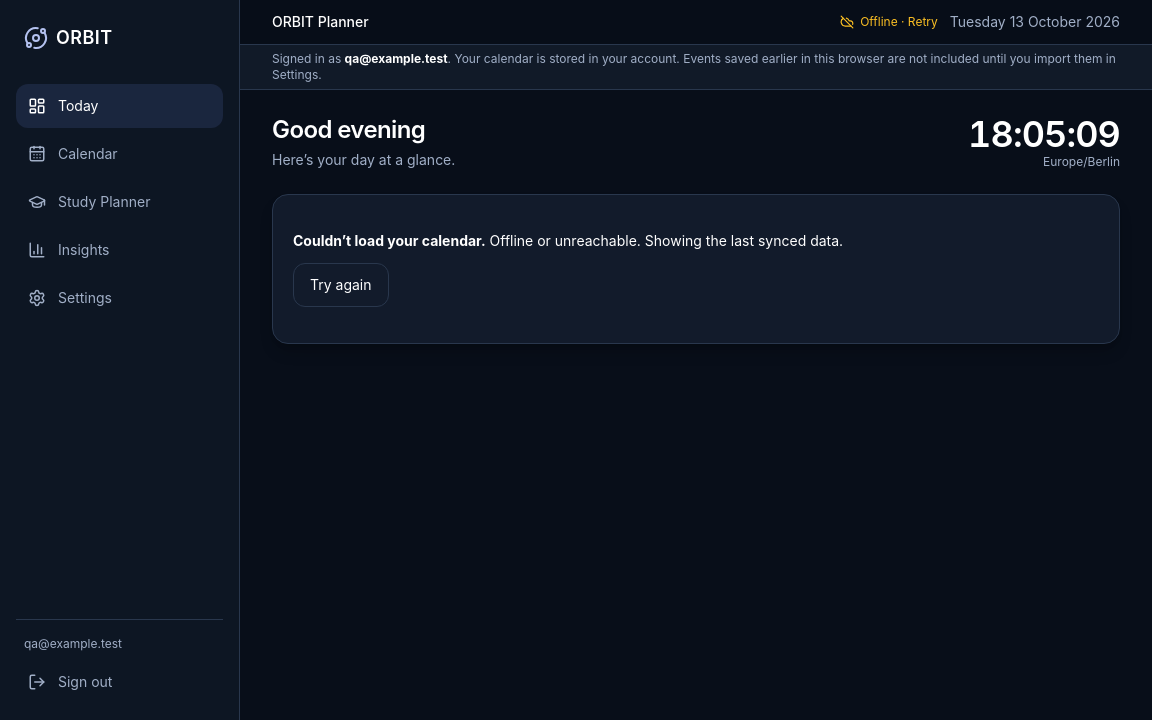
cloud mode in the UI (mocked cloud) › a failed first load shows an error with a working retry (not an empty calendar)
Check: the text "Couldn’t load your calendar." is shown, box [293,232,486,249]
Click the button "Try again" at (341, 285), box [293,263,388,307]
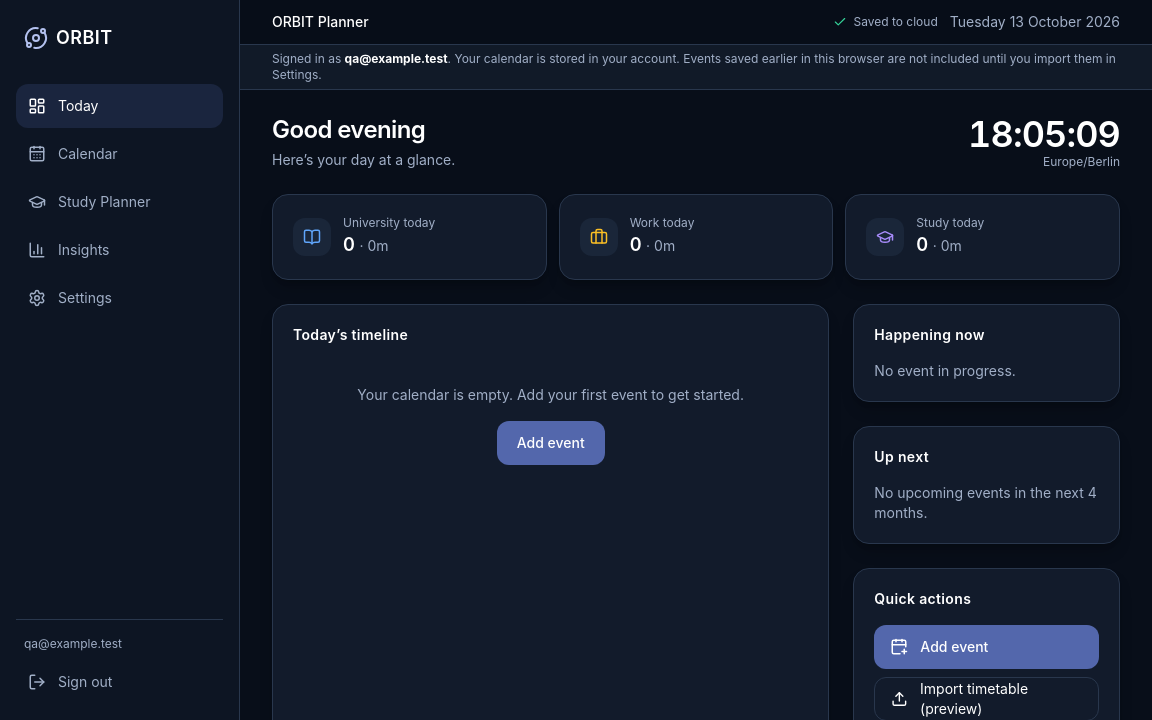
Check: the heading "Quick actions" is shown, box [874,589,971,609]
